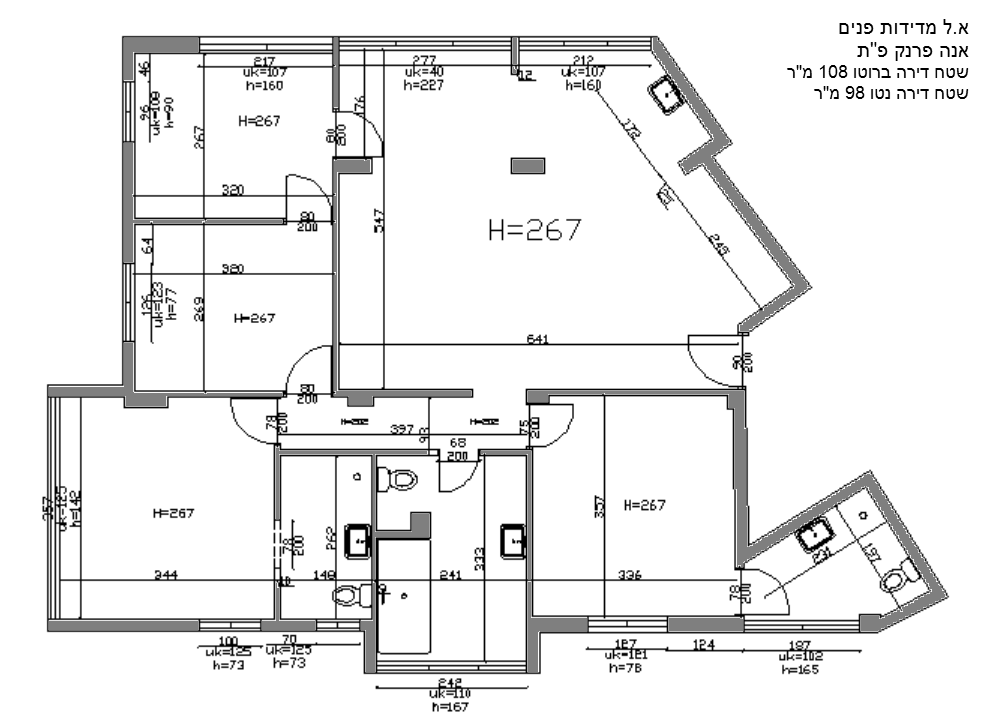door: (684, 329, 749, 386), (279, 167, 335, 220), (741, 567, 800, 617), (343, 110, 392, 163), (529, 405, 580, 450), (286, 345, 334, 390), (436, 449, 478, 496)
room: (349, 56, 730, 382), (68, 402, 275, 612), (541, 408, 737, 614), (140, 231, 329, 384), (137, 66, 322, 217), (385, 471, 523, 655), (286, 462, 368, 613), (285, 403, 529, 442)
wall: (48, 382, 279, 402), (727, 388, 751, 571), (525, 454, 542, 671), (526, 386, 749, 398), (331, 152, 341, 390), (48, 622, 202, 635), (133, 214, 286, 227), (275, 444, 434, 456), (333, 386, 475, 398), (122, 140, 135, 262), (122, 36, 196, 55), (527, 614, 590, 635), (668, 617, 745, 633), (271, 443, 284, 527), (509, 155, 550, 177), (363, 622, 379, 675), (124, 342, 137, 403), (260, 619, 316, 633), (331, 36, 341, 112), (479, 444, 533, 457)
window: (201, 29, 333, 55), (330, 160, 343, 394), (342, 33, 512, 49), (384, 655, 526, 674), (750, 616, 862, 635), (524, 34, 654, 50), (589, 614, 667, 635)
